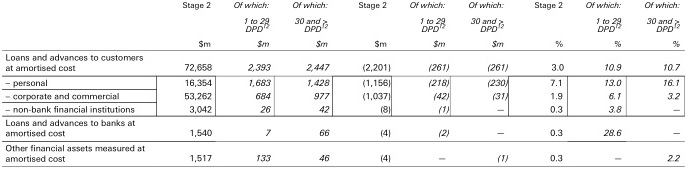column: (4, 1, 146, 168), (409, 1, 449, 169), (468, 1, 508, 169), (233, 1, 271, 169), (293, 1, 331, 169), (585, 1, 623, 169), (644, 1, 681, 168), (358, 1, 391, 169), (182, 1, 213, 169), (534, 1, 564, 169)
row: (1, 1, 687, 10), (1, 63, 687, 72), (1, 78, 687, 87), (1, 104, 687, 113), (1, 92, 686, 101), (1, 54, 687, 62), (1, 119, 687, 127), (1, 129, 687, 137), (1, 25, 686, 33), (1, 145, 687, 152), (1, 155, 687, 162), (1, 17, 686, 24), (1, 40, 686, 47)
